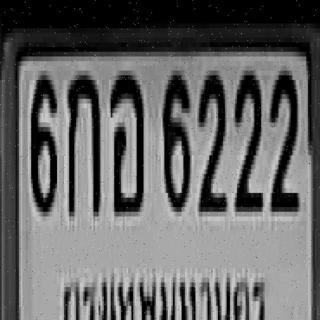A01: (66, 71, 99, 212)
A43: (109, 71, 142, 212)
N02: (268, 66, 296, 207), (197, 68, 225, 209), (233, 66, 261, 207)
N06: (161, 66, 189, 207), (30, 71, 56, 212)
